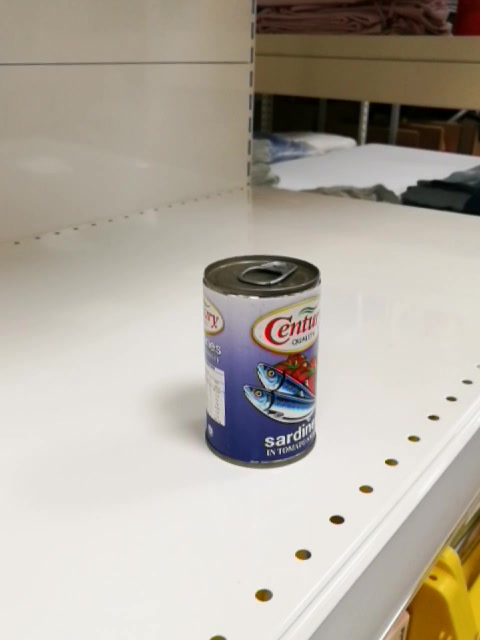sardine: (202, 254, 321, 469)
